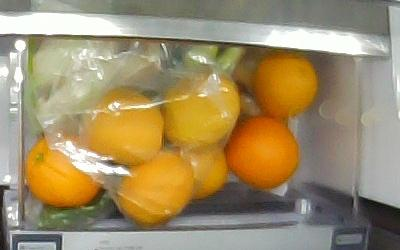orange: (227, 115, 300, 188), (254, 53, 317, 118)
orange_vinyl: (160, 71, 239, 149), (83, 88, 164, 164), (118, 147, 193, 225), (25, 134, 103, 206)
